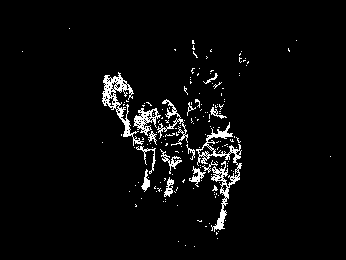person: (191, 113, 243, 233), (155, 98, 189, 200), (129, 100, 165, 189), (110, 72, 134, 137)
